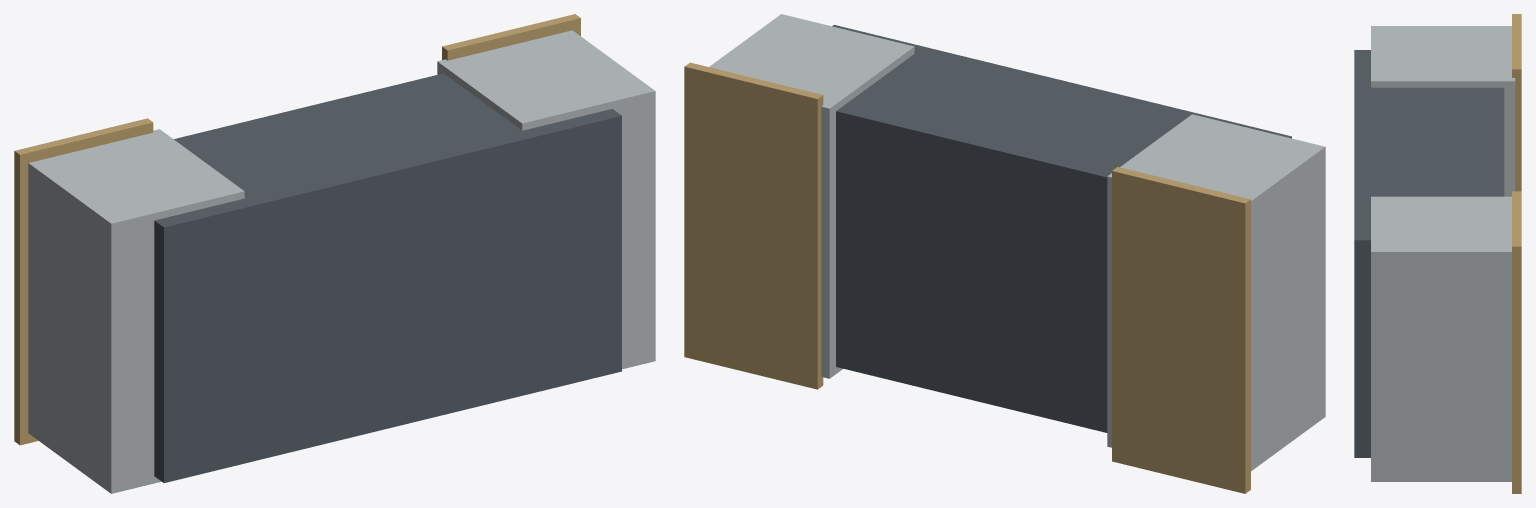
The picture shows the model from 3 angles, left to right: view 1: azimuth 30°, elevation 25°; view 2: azimuth 150°, elevation 25°; view 3: azimuth 270°, elevation 25°; orthographic projection. The views are drawn at different scales.
Parts seen in each view (by area): view 1: PART_000_Ceramic_Black, PART_001_Lead_Tin, PART_003_Lead_Tin, PART_002_Copper_Gold, PART_004_Copper_Gold; view 2: PART_000_Ceramic_Black, PART_002_Copper_Gold, PART_004_Copper_Gold, PART_001_Lead_Tin, PART_003_Lead_Tin; view 3: PART_003_Lead_Tin, PART_000_Ceramic_Black, PART_001_Lead_Tin, PART_004_Copper_Gold, PART_002_Copper_Gold.
Boxes of the visible parts, <box> form: PART_000_Ceramic_Black: <box>154,73,621,482</box>; PART_001_Lead_Tin: <box>28,129,244,493</box>; PART_003_Lead_Tin: <box>437,30,655,369</box>; PART_002_Copper_Gold: <box>14,118,153,445</box>; PART_004_Copper_Gold: <box>442,14,580,60</box>; PART_000_Ceramic_Black: <box>832,25,1291,432</box>; PART_002_Copper_Gold: <box>1112,167,1250,493</box>; PART_004_Copper_Gold: <box>684,62,823,389</box>; PART_001_Lead_Tin: <box>1107,114,1325,470</box>; PART_003_Lead_Tin: <box>709,14,914,378</box>; PART_003_Lead_Tin: <box>1371,196,1511,481</box>; PART_000_Ceramic_Black: <box>1354,50,1504,457</box>; PART_001_Lead_Tin: <box>1371,26,1515,196</box>; PART_004_Copper_Gold: <box>1512,191,1521,493</box>; PART_002_Copper_Gold: <box>1512,14,1521,191</box>.
Bounding box in the file's own units: 0.00202 × 0.001 × 0.000613.
